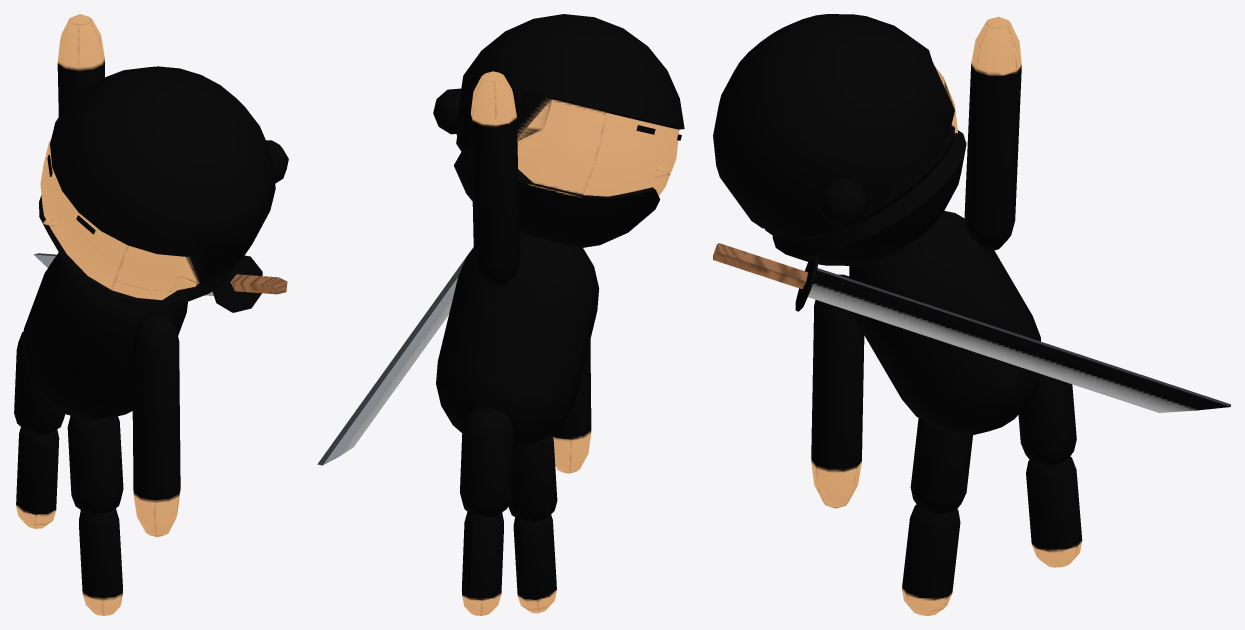
File: NINJA Holding.fbx
The picture shows the model from 3 angles, left to right: view 1: azimuth 30°, elevation 25°; view 2: azimuth 150°, elevation 25°; view 3: azimuth 270°, elevation 25°; orthographic projection. The views are drawn at different scales.
Parts seen in each view (by area): view 1: Pose_Looking_Holiding_On_1; view 2: Pose_Looking_Holiding_On_1; view 3: Pose_Looking_Holiding_On_1.
Part boxes in pixels (x1,y1,x2,y2): Pose_Looking_Holiding_On_1: (14, 14, 288, 615); Pose_Looking_Holiding_On_1: (317, 14, 684, 615); Pose_Looking_Holiding_On_1: (713, 14, 1230, 615).
Bounding box in the file's own units: 230 × 525 × 408.
